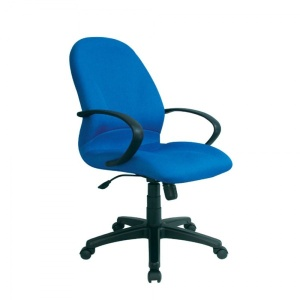chair: (68, 36, 233, 282)
